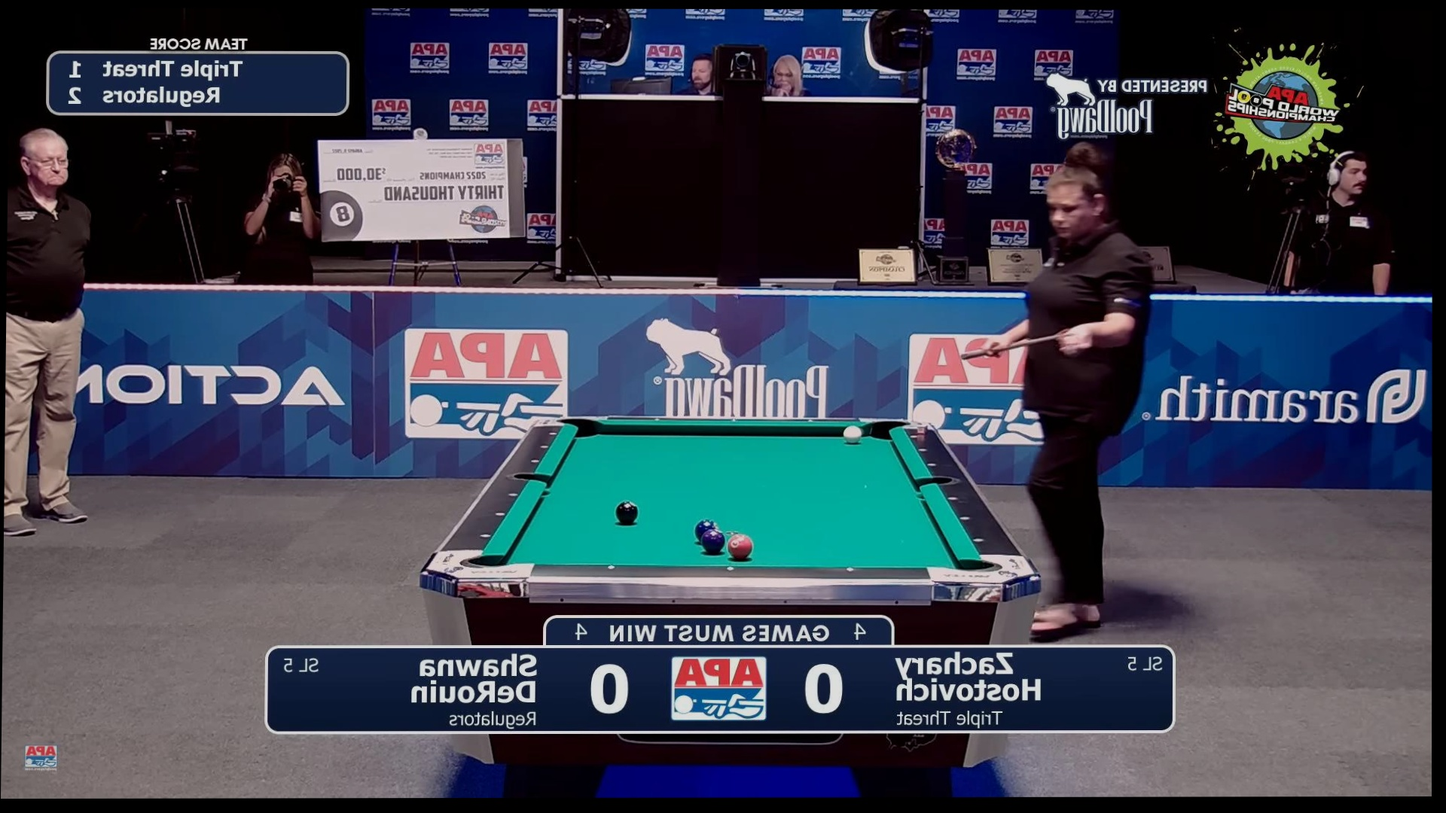Black: (616, 501, 639, 525)
Cue: (843, 425, 861, 443)
Solid: (947, 494, 958, 502), (927, 460, 938, 468), (805, 417, 816, 425), (606, 563, 617, 571), (973, 536, 983, 544), (729, 416, 739, 424), (540, 443, 550, 451), (531, 457, 541, 465), (845, 566, 855, 574), (959, 514, 970, 521), (918, 446, 929, 453), (909, 433, 920, 440), (652, 416, 663, 423), (508, 491, 519, 498), (495, 511, 506, 518), (480, 533, 491, 540), (548, 430, 558, 437), (726, 565, 736, 572)
Striped: (728, 534, 753, 560), (700, 529, 725, 554), (694, 518, 717, 543)
